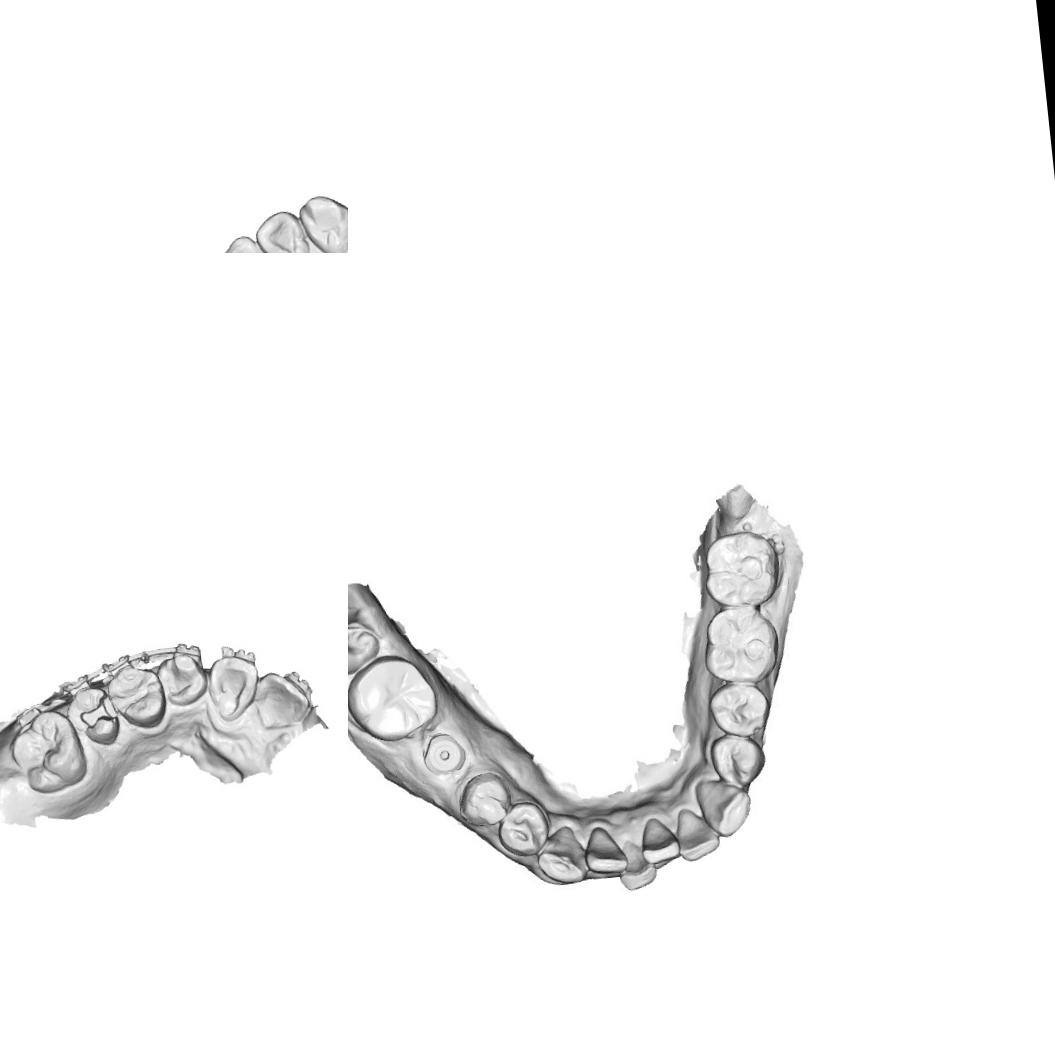canine: (694, 774, 756, 841), (294, 190, 348, 253), (154, 650, 210, 708), (538, 829, 590, 884)
implant: (420, 730, 468, 777)
incisor: (202, 643, 264, 724), (248, 668, 316, 732), (249, 207, 311, 253), (671, 805, 722, 860), (582, 822, 627, 874), (639, 818, 681, 867), (206, 230, 285, 253), (620, 844, 655, 888)
inlay: (74, 690, 119, 736)
molar: (348, 651, 442, 746), (3, 705, 90, 798), (698, 530, 780, 612), (703, 604, 784, 683)
premolar: (106, 662, 168, 730), (708, 677, 771, 739), (706, 732, 766, 788), (458, 770, 512, 828), (498, 806, 547, 854)
